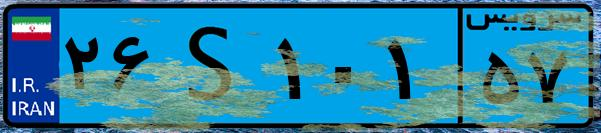0: (330, 28, 385, 110)
1: (270, 28, 330, 110), (385, 28, 445, 110)
2: (57, 26, 110, 100)
5: (475, 38, 525, 113)
6: (110, 28, 158, 98)
7: (525, 38, 570, 115)
S: (158, 12, 270, 120)
